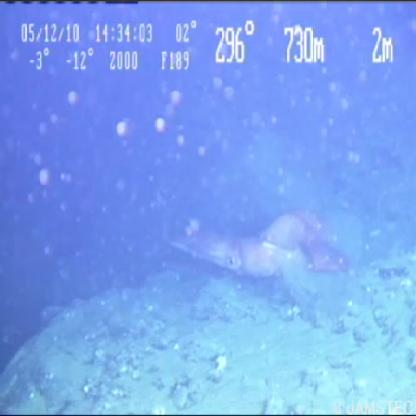Bio: (154, 203, 353, 281)
